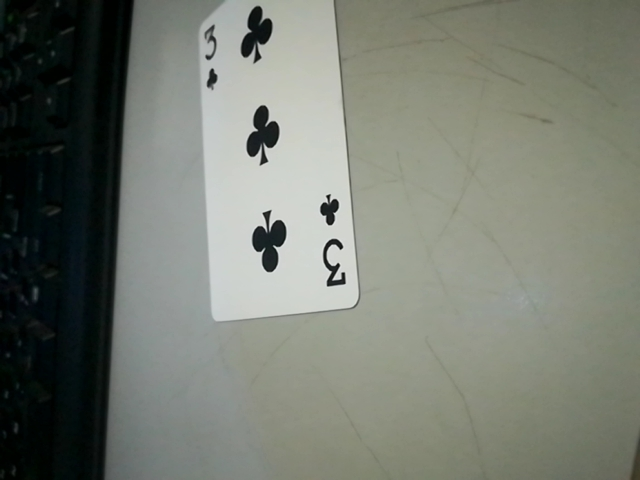mh 3: (310, 184, 360, 305)
